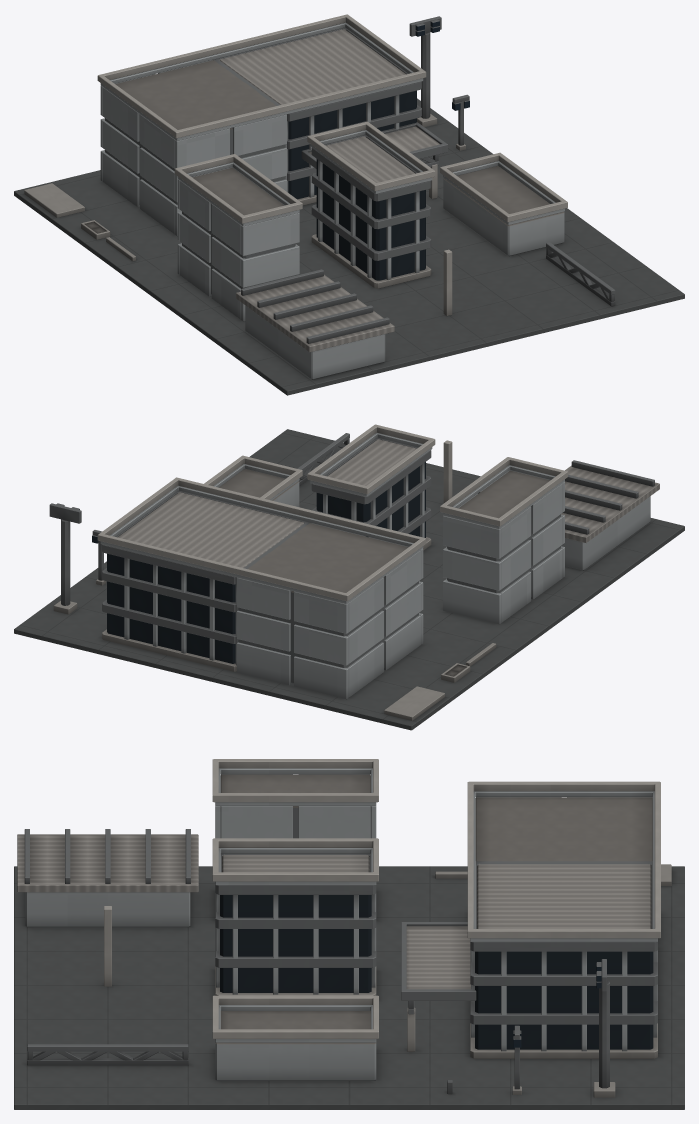
File: kit-board.glb
3 renders of one model, top to bottom at view 1: azimuth 30°, elevation 25°; view 2: azimuth 150°, elevation 25°; view 3: azimuth 270°, elevation 25°, orthographic. The views are drawn at different scales.
Visible parts, largest first — view 1: fringe:landmark-kit-board:apron, fringe:landmark-kit-board:specimen-panel-wall-panels, fringe:landmark-kit-board:specimen-curtain-wall, fringe:landmark-kit-board:part-panel-wall-panels, fringe:landmark-kit-board:part-curtain-wall, fringe:landmark-kit-board:specimen-panel-wall, fringe:landmark-kit-board:part-parapet-mass, fringe:landmark-kit-board:specimen-parapet-cap, fringe:landmark-kit-board:part-ribbed-roof, fringe:landmark-kit-board:part-ribbed-roof-mass, fringe:landmark-kit-board:part-curtain-wall-bands, fringe:landmark-kit-board:part-ribbed-roof-ribs (+18 smaller); view 2: fringe:landmark-kit-board:apron, fringe:landmark-kit-board:specimen-panel-wall-panels, fringe:landmark-kit-board:specimen-curtain-wall, fringe:landmark-kit-board:part-panel-wall-panels, fringe:landmark-kit-board:specimen-panel-wall, fringe:landmark-kit-board:specimen-parapet-cap, fringe:landmark-kit-board:specimen-curtain-wall-bands, fringe:landmark-kit-board:part-curtain-wall, fringe:landmark-kit-board:part-ribbed-roof, fringe:landmark-kit-board:part-panel-wall, fringe:landmark-kit-board:specimen-parapet, fringe:landmark-kit-board:part-curtain-wall-bands (+16 smaller); view 3: fringe:landmark-kit-board:apron, fringe:landmark-kit-board:specimen-curtain-wall, fringe:landmark-kit-board:part-curtain-wall, fringe:landmark-kit-board:specimen-panel-wall, fringe:landmark-kit-board:part-ribbed-roof, fringe:landmark-kit-board:part-parapet-mass, fringe:landmark-kit-board:specimen-curtain-wall-bands, fringe:landmark-kit-board:part-curtain-wall-bands, fringe:landmark-kit-board:specimen-parapet-cap, fringe:landmark-kit-board:part-ribbed-roof-mass, fringe:landmark-kit-board:part-panel-wall-panels, fringe:landmark-kit-board:specimen-canopy (+17 smaller).
Part boxes in pixels (x1,y1,x2,y2): fringe:landmark-kit-board:apron: (14,98,684,395); fringe:landmark-kit-board:specimen-panel-wall-panels: (100,60,286,236); fringe:landmark-kit-board:specimen-curtain-wall: (220,29,416,199); fringe:landmark-kit-board:part-panel-wall-panels: (177,167,299,321); fringe:landmark-kit-board:part-curtain-wall: (316,136,425,280); fringe:landmark-kit-board:specimen-panel-wall: (105,60,288,204); fringe:landmark-kit-board:part-parapet-mass: (443,166,564,256); fringe:landmark-kit-board:specimen-parapet-cap: (97,14,426,138); fringe:landmark-kit-board:part-ribbed-roof: (236,274,394,352); fringe:landmark-kit-board:part-ribbed-roof-mass: (245,305,385,379); fringe:landmark-kit-board:part-curtain-wall-bands: (311,135,431,260); fringe:landmark-kit-board:part-ribbed-roof-ribs: (241,269,389,343); fringe:landmark-kit-board:apron: (14,429,684,730); fringe:landmark-kit-board:specimen-panel-wall-panels: (237,523,423,699); fringe:landmark-kit-board:specimen-curtain-wall: (107,492,303,663); fringe:landmark-kit-board:part-panel-wall-panels: (443,470,564,624); fringe:landmark-kit-board:specimen-panel-wall: (235,523,418,684); fringe:landmark-kit-board:specimen-parapet-cap: (97,477,426,601); fringe:landmark-kit-board:specimen-curtain-wall-bands: (102,490,311,643); fringe:landmark-kit-board:part-curtain-wall: (316,439,425,537); fringe:landmark-kit-board:part-ribbed-roof: (561,465,659,542); fringe:landmark-kit-board:part-panel-wall: (447,470,560,596); fringe:landmark-kit-board:specimen-parapet: (100,485,423,603); fringe:landmark-kit-board:part-curtain-wall-bands: (311,437,431,533); fringe:landmark-kit-board:apron: (14,866,684,1109); fringe:landmark-kit-board:specimen-curtain-wall: (475,864,653,1049); fringe:landmark-kit-board:part-curtain-wall: (220,855,371,992); fringe:landmark-kit-board:specimen-panel-wall: (475,797,652,861); fringe:landmark-kit-board:part-ribbed-roof: (17,834,198,892); fringe:landmark-kit-board:part-parapet-mass: (215,1011,376,1080); fringe:landmark-kit-board:specimen-curtain-wall-bands: (470,861,657,1024); fringe:landmark-kit-board:part-curtain-wall-bands: (215,853,376,967); fringe:landmark-kit-board:specimen-parapet-cap: (467,781,660,938); fringe:landmark-kit-board:part-ribbed-roof-mass: (25,892,190,927); fringe:landmark-kit-board:part-panel-wall-panels: (215,774,376,838); fringe:landmark-kit-board:specimen-canopy: (406,926,470,989).
Size of the model in its own units: 42 by 11.05 by 50.
7 materials, 7 textured.
